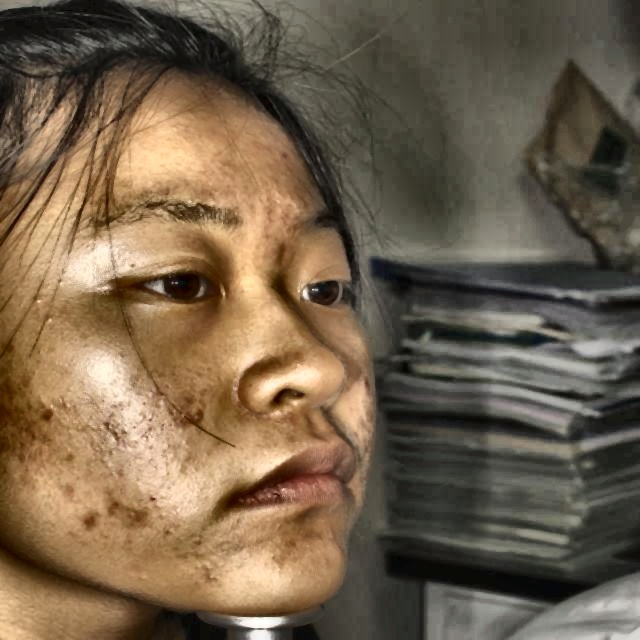pustule: (126, 502, 164, 539), (98, 480, 128, 518), (26, 400, 57, 428), (174, 403, 205, 431), (78, 505, 100, 536), (264, 239, 286, 261)
